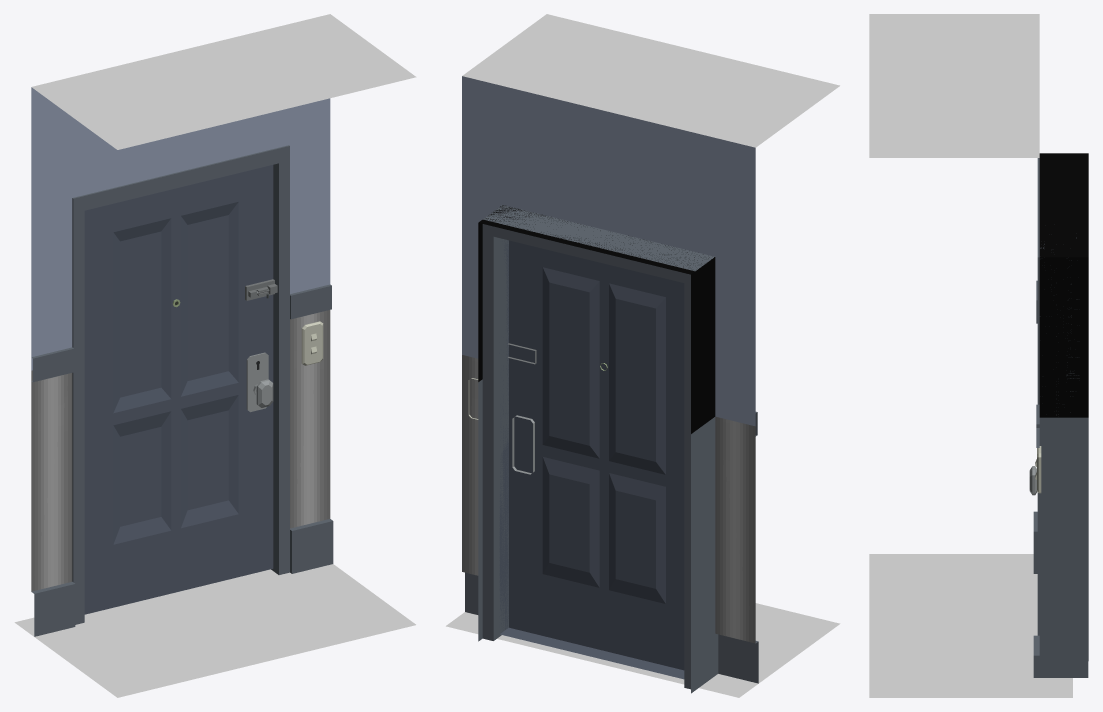
The model's file is roomA_wallDoor_mdl.fbx.
3 renders of one model, left to right at view 1: azimuth 30°, elevation 25°; view 2: azimuth 150°, elevation 25°; view 3: azimuth 270°, elevation 25°, orthographic.
Visible parts, largest first — view 1: polySurface22, polySurface1, polySurface3; view 2: polySurface22, polySurface3, polySurface1; view 3: polySurface22, polySurface1, polySurface3.
Part boxes in pixels (x1,y1,x2,y2): polySurface22: (31,87,333,636); polySurface1: (14,564,415,697); polySurface3: (31,14,416,149); polySurface22: (462,76,758,693); polySurface3: (462,14,839,147); polySurface1: (446,603,840,697); polySurface22: (1029,153,1088,677); polySurface1: (869,554,1072,697); polySurface3: (869,14,1039,157).
Size of the model in its own units: 2 by 3.5 by 1.29.
